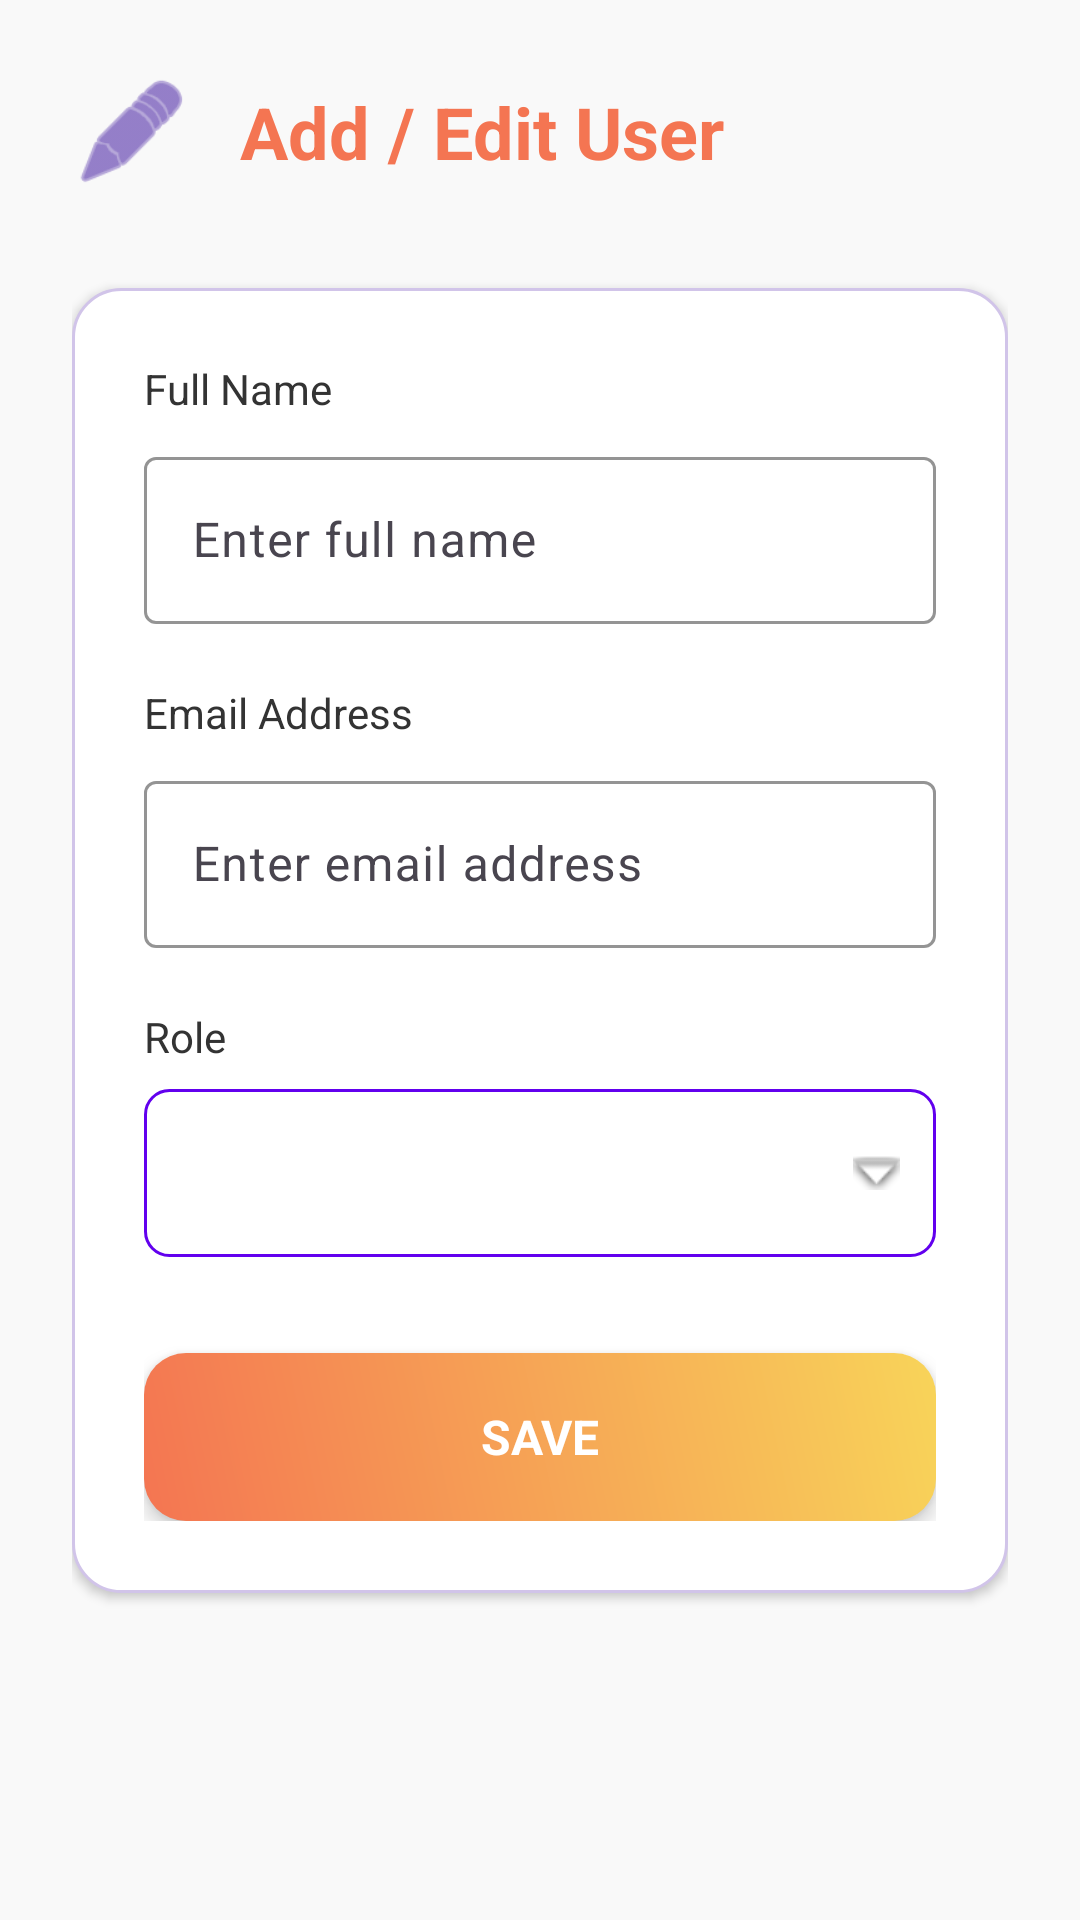

Point at icon controls on the screen. Image size 1080x1920, points as [x,y].
User Form Icon: [131,131]
